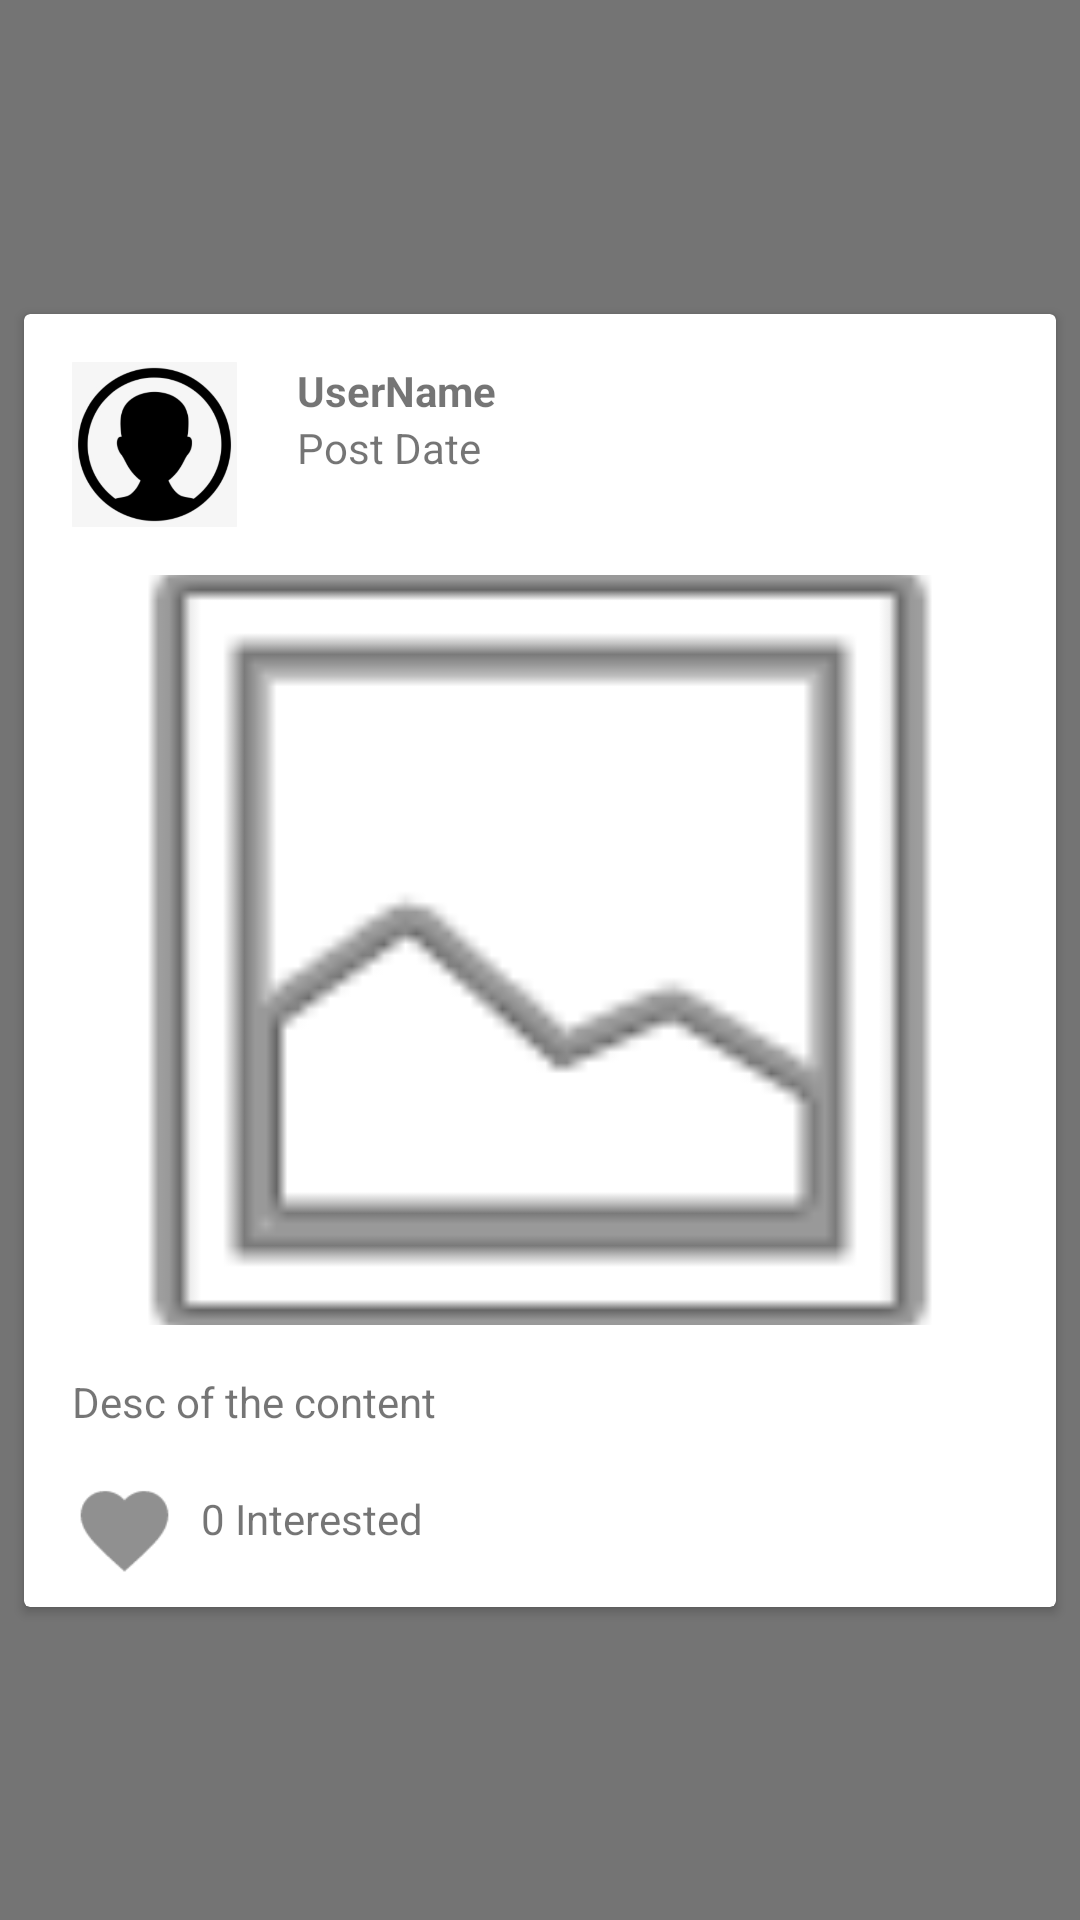

Icons on this 1080*1920 Android screen, each with the point to tap as [x,y]:
like: [124,1531]
